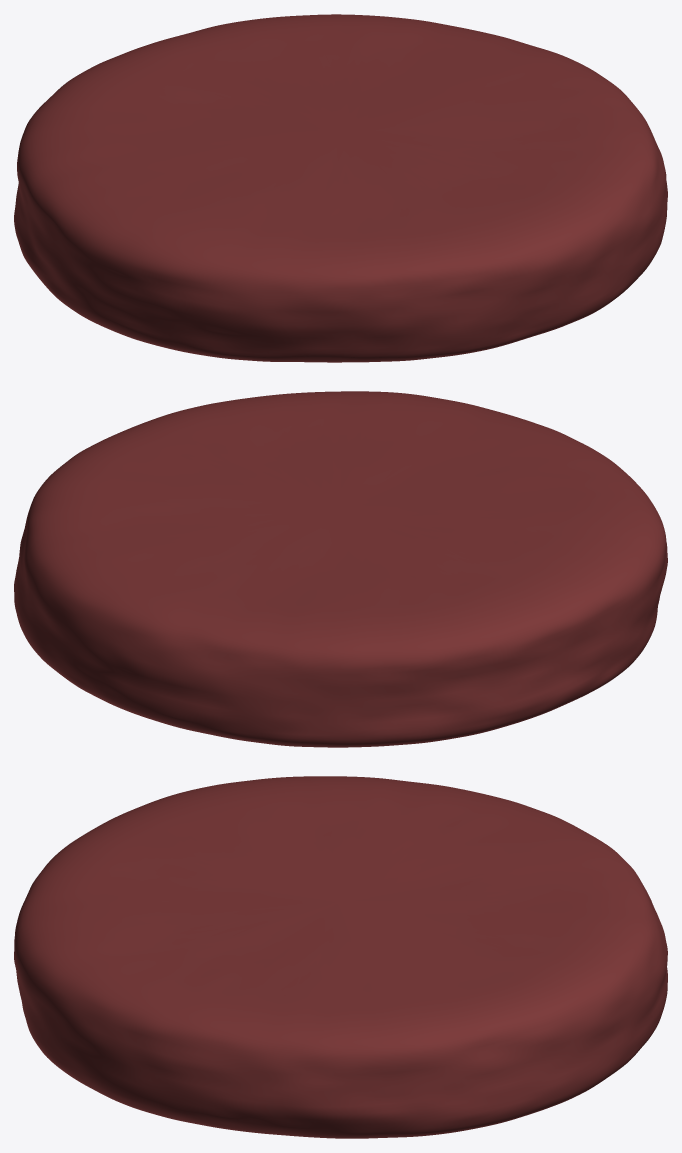
File: steak.fbx
The picture shows the model from 3 angles, top to bottom: view 1: azimuth 30°, elevation 25°; view 2: azimuth 150°, elevation 25°; view 3: azimuth 270°, elevation 25°; orthographic projection.
Parts seen in each view (by area): view 1: meat.001; view 2: meat.001; view 3: meat.001.
Boxes of the visible parts, bbox=[...] form: meat.001: bbox=[14, 14, 667, 362]; meat.001: bbox=[14, 391, 667, 747]; meat.001: bbox=[14, 776, 667, 1138].
Bounding box in the file's own units: 241 × 47.93 × 237.
